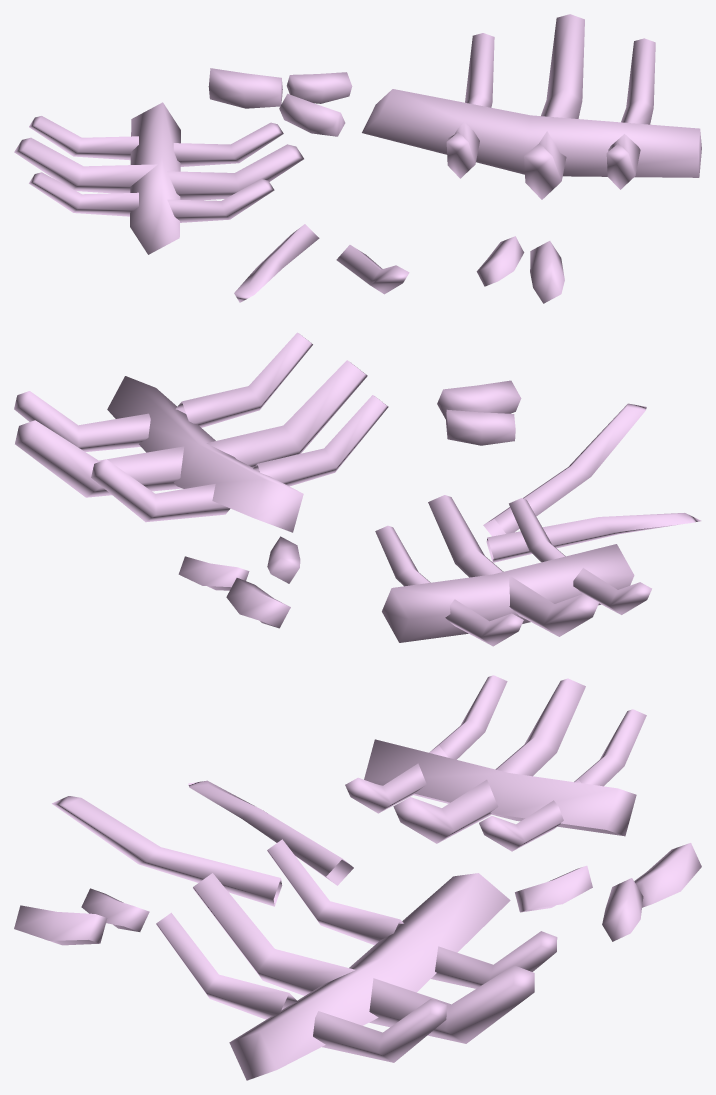
The picture shows the model from 3 angles, top to bottom: view 1: azimuth 30°, elevation 25°; view 2: azimuth 150°, elevation 25°; view 3: azimuth 270°, elevation 25°; orthographic projection. The views are drawn at different scales.
Visible parts, largest first — view 1: Object50; view 2: Object50; view 3: Object50.
Part boxes in pixels (bbox=[...]): Object50: bbox=[14, 14, 701, 303]; Object50: bbox=[14, 332, 701, 646]; Object50: bbox=[14, 675, 701, 1080].
Bounding box in the file's own units: 125 × 21.87 × 103.
